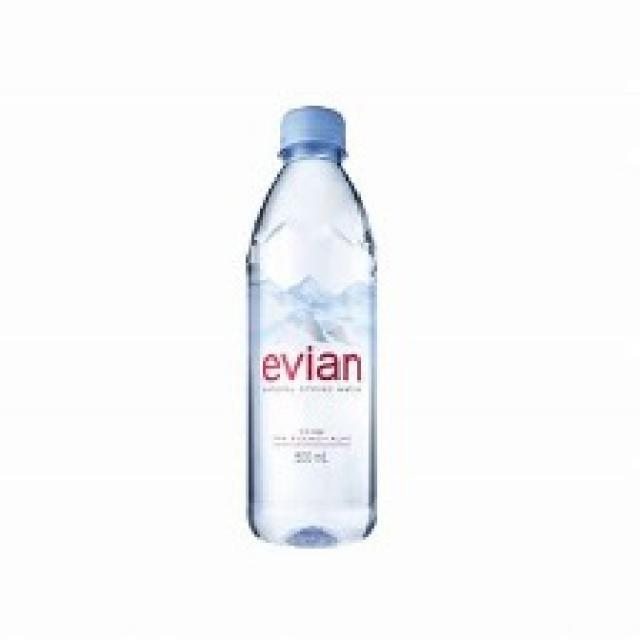plastic_bottle: (222, 111, 405, 553)
